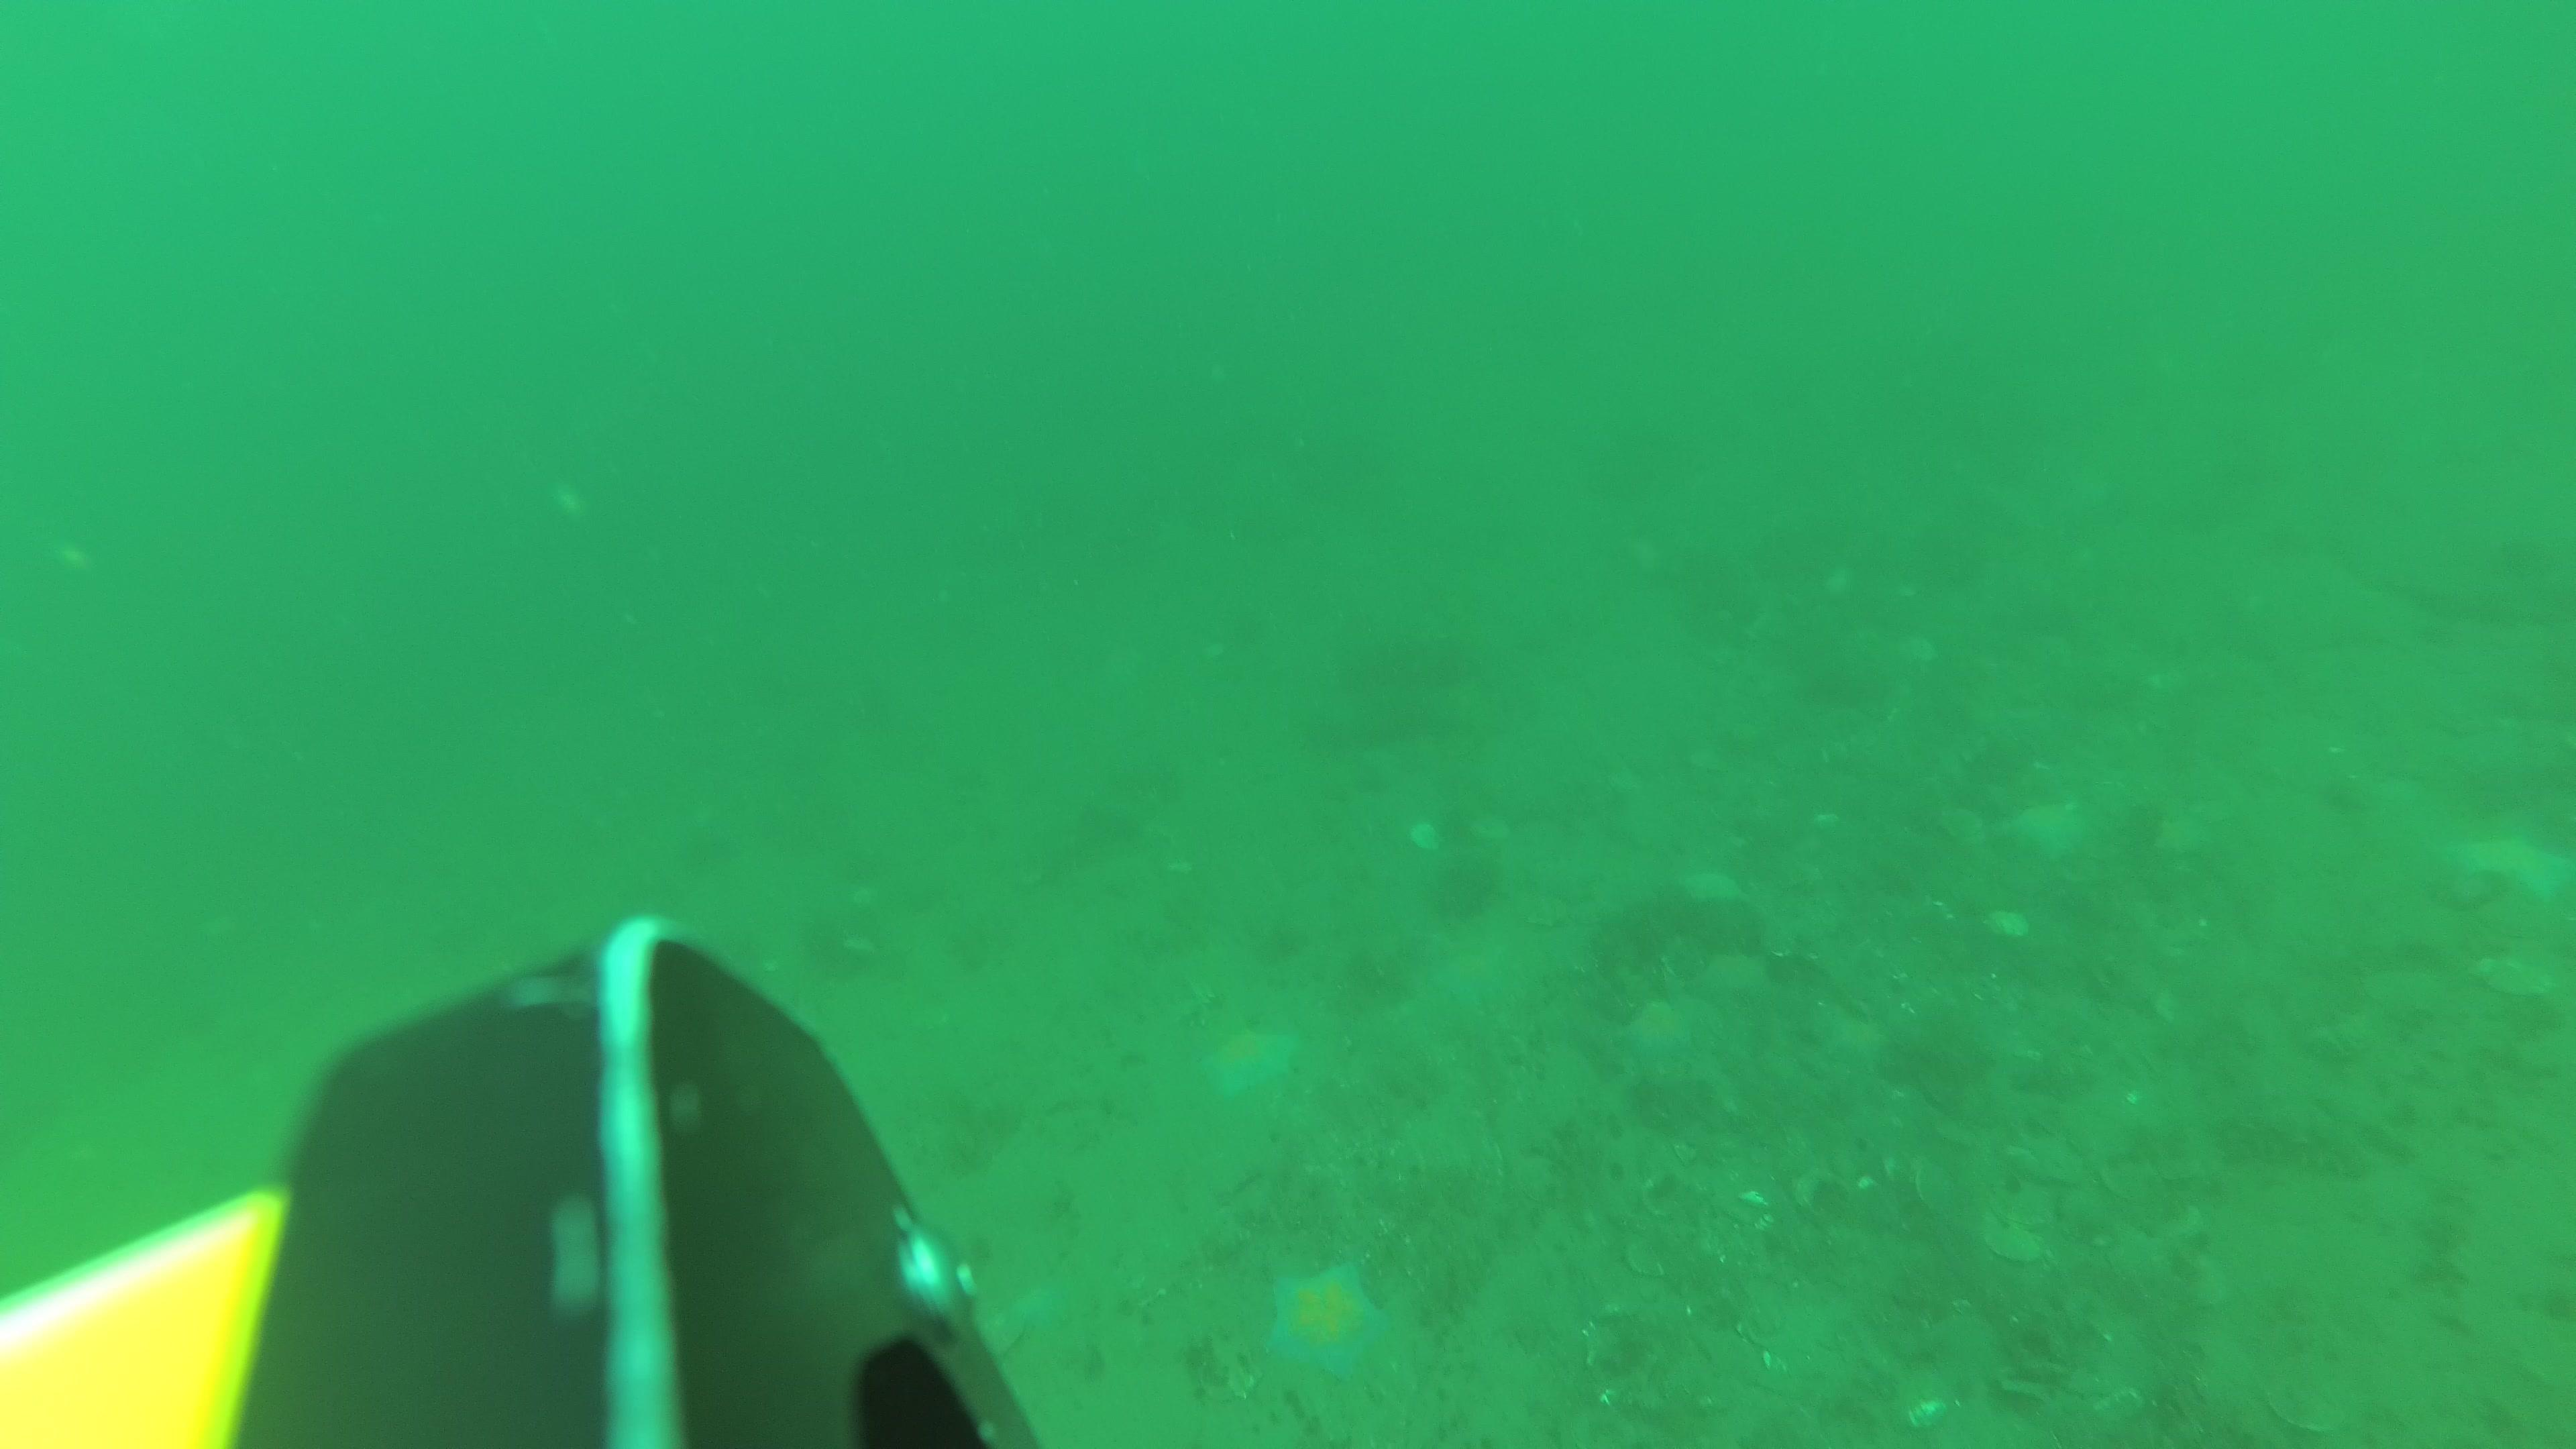holothurian: (2203, 1108, 2376, 1187)
scallop: (2265, 1364, 2357, 1438), (2360, 970, 2454, 1033), (2465, 947, 2562, 1003), (2001, 1136, 2086, 1189), (1902, 1152, 1960, 1226), (2061, 1178, 2112, 1247), (2097, 1161, 2166, 1205), (1992, 1184, 2054, 1231), (2144, 1203, 2215, 1244), (1983, 1223, 2045, 1267), (1923, 1113, 1982, 1159), (2160, 1157, 2204, 1184)
starfish: (1261, 1254, 1396, 1371), (2450, 826, 2576, 922), (1196, 1017, 1313, 1108), (1994, 791, 2102, 869), (1621, 985, 1704, 1069)
